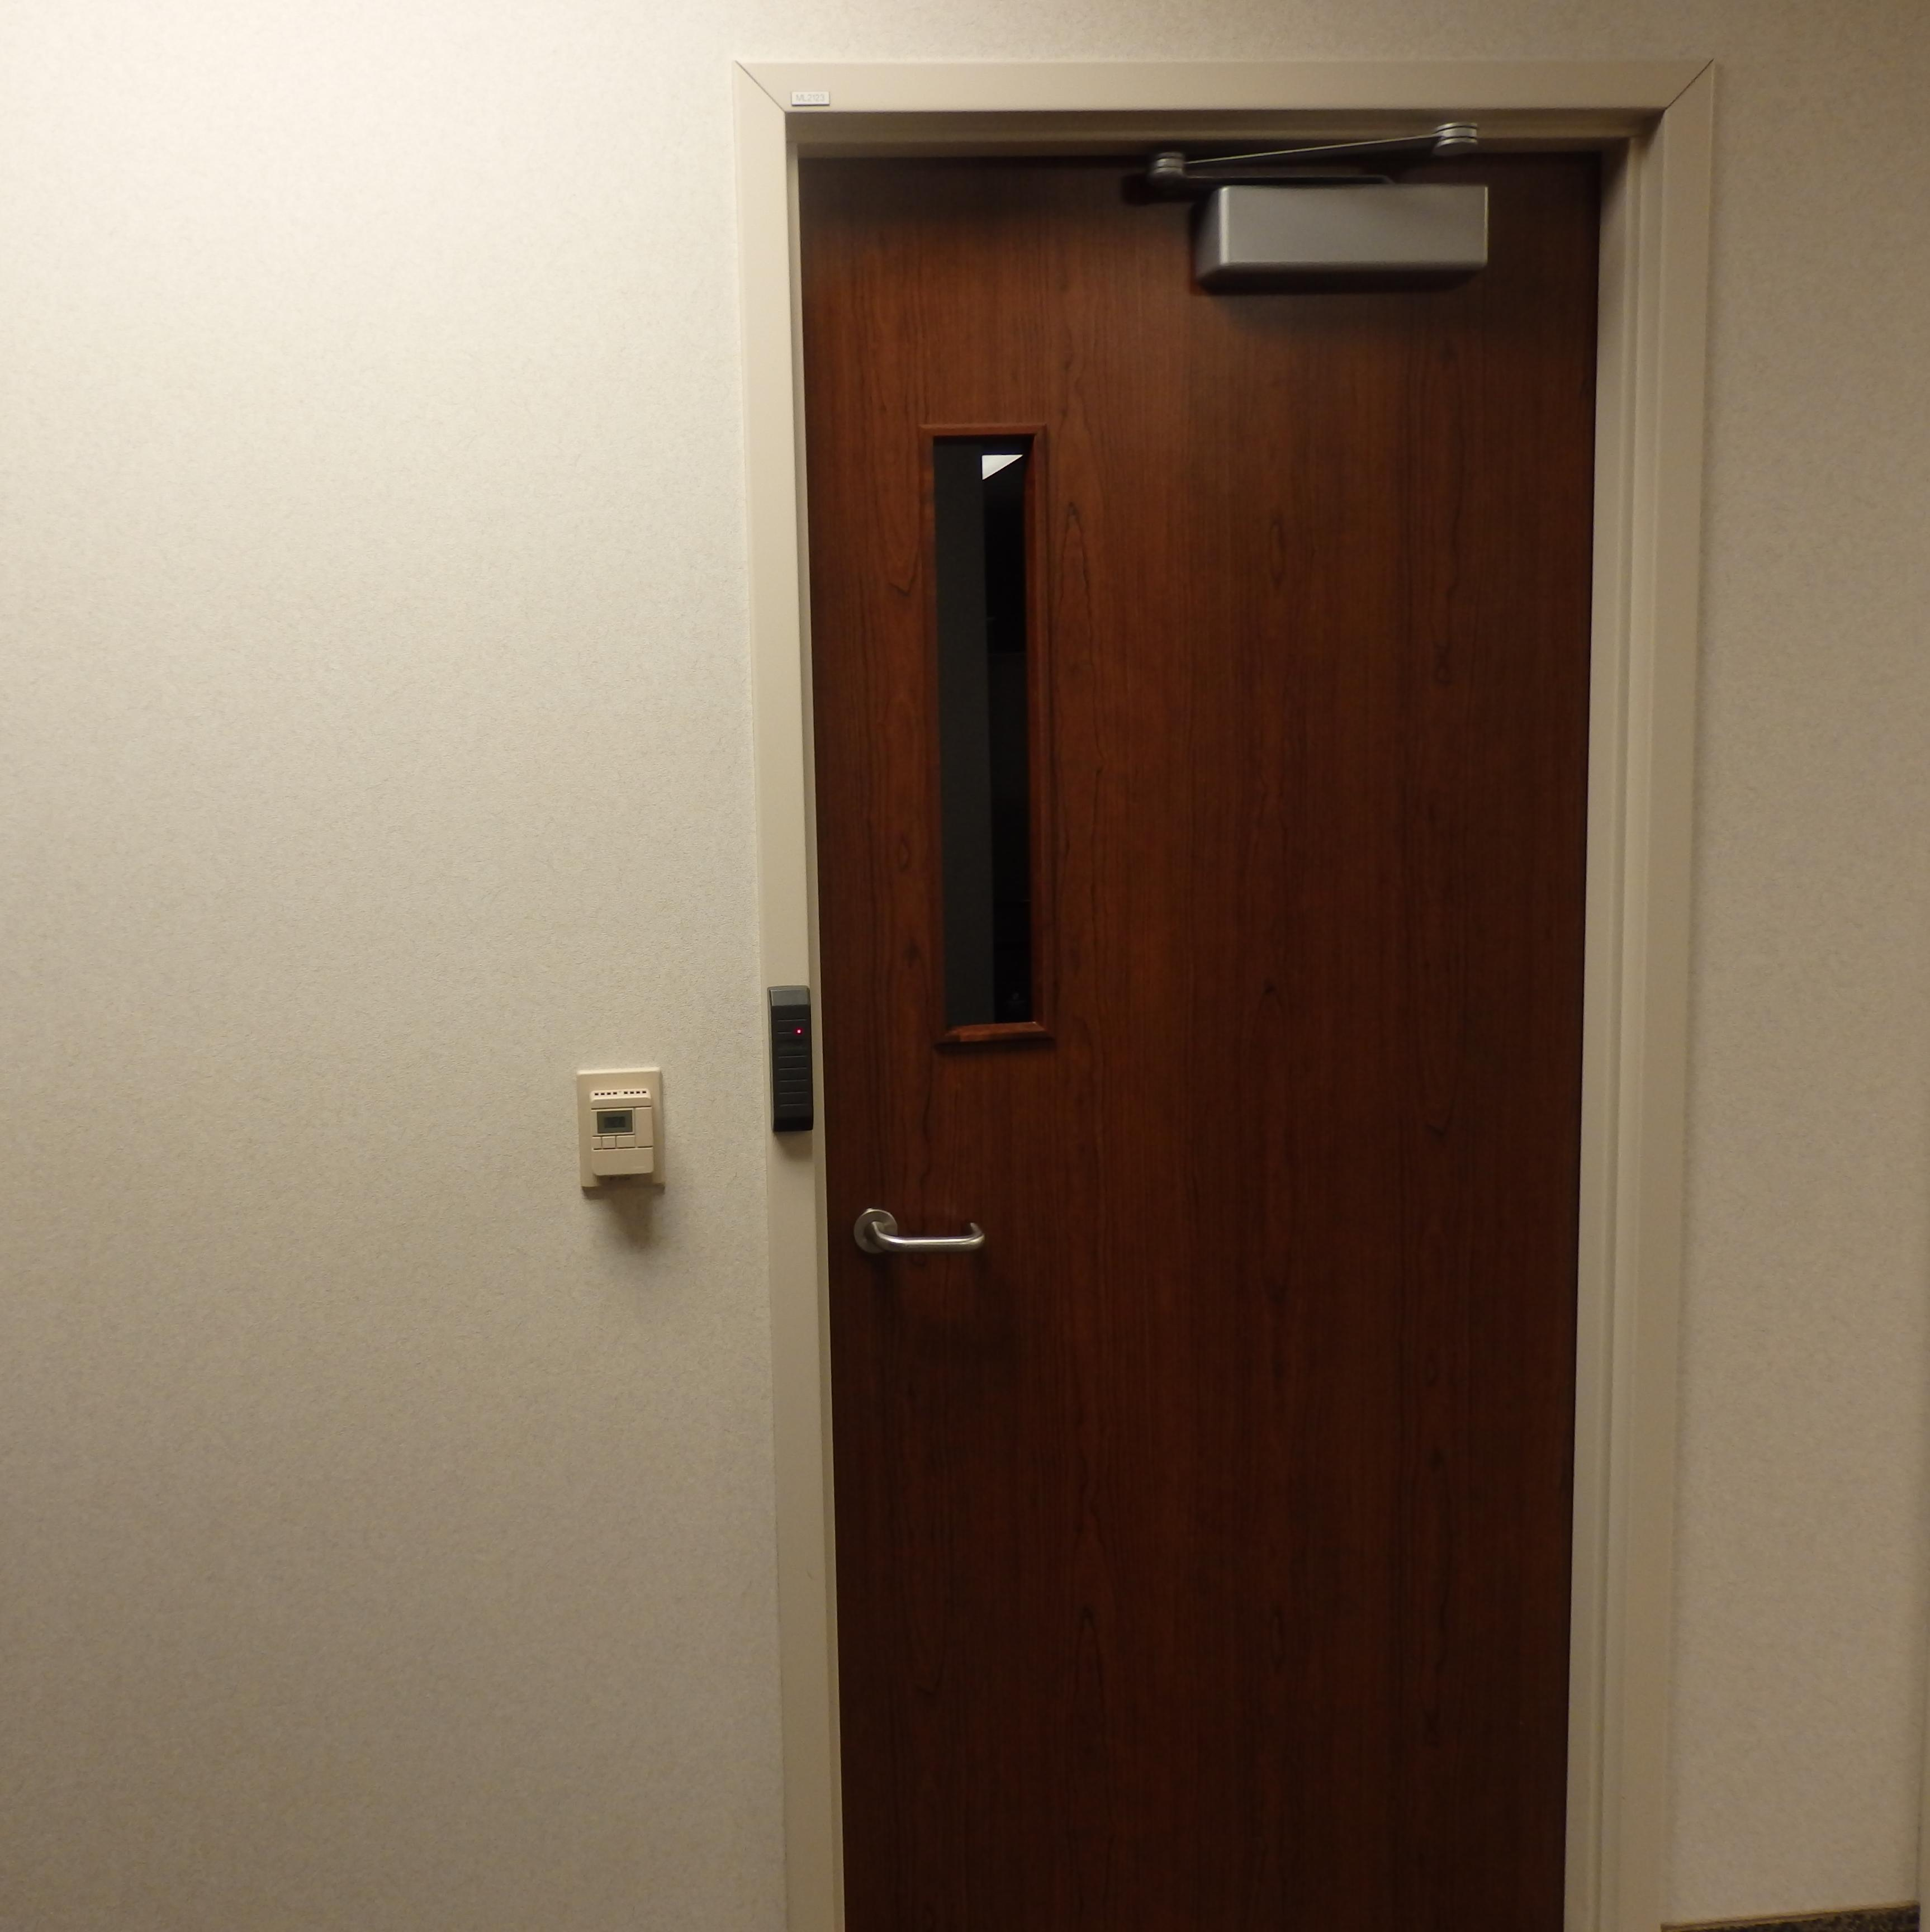door: (783, 115, 1603, 1932)
